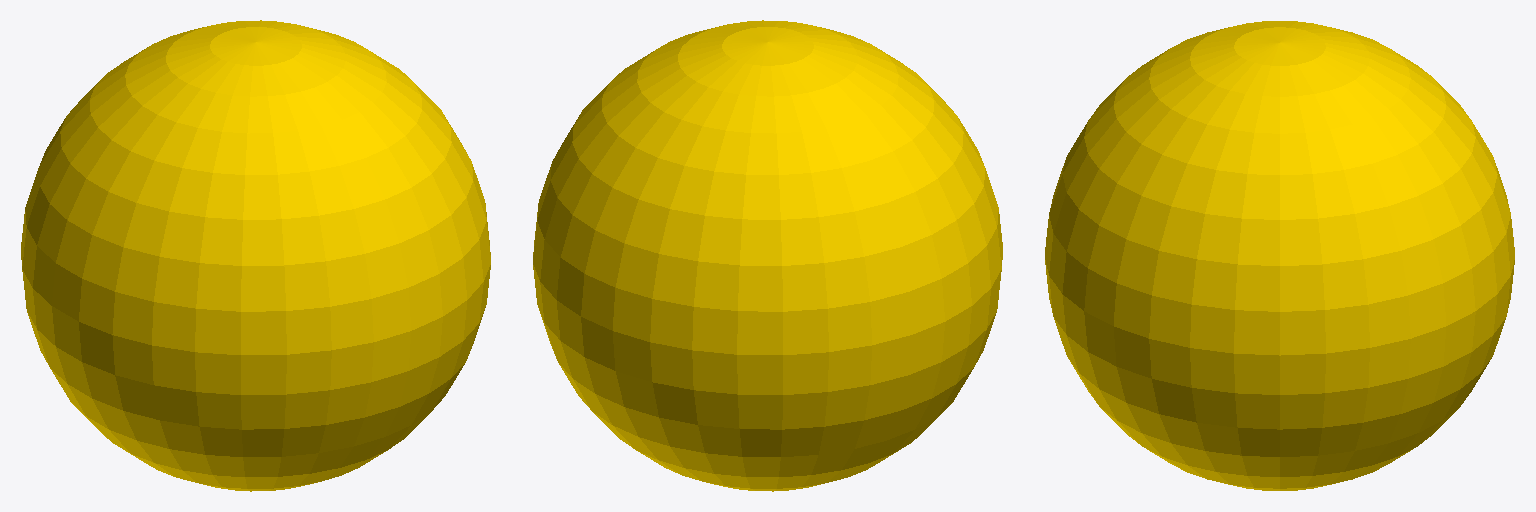
The robot description file, URDF, robot "soccer_ball":
<?xml version="1.0"?>
<!-- Soccer ball: pure-sphere rigid body, no mesh file required. -->
<robot name="soccer_ball">
  <link name="ball">
    <inertial>
      <mass value="0.05"/>
      <origin xyz="0 0 0"/>
      <inertia ixx="1.45e-5" iyy="1.45e-5" izz="1.45e-5" ixy="0" ixz="0" iyz="0"/>
    </inertial>
    <collision>
      <geometry>
        <sphere radius="0.11"/>
      </geometry>
    </collision>
    <visual>
      <geometry>
        <sphere radius="0.11"/>
      </geometry>
      <material name="ball">
        <color rgba="1.0 0.85 0.0 1.0"/>
      </material>
    </visual>
  </link>
</robot>

--- Render facts (derived) ---
3 views of the same robot in one strip: view 1: azimuth 30°, elevation 25°; view 2: azimuth 150°, elevation 25°; view 3: azimuth 270°, elevation 25° (orthographic).
Robot: soccer_ball — 1 links, 0 joints (none); root link ball; default pose: every joint at zero.
Links seen in each view (by area): view 1: ball; view 2: ball; view 3: ball.
Link boxes in pixels (x1,y1,x2,y2): ball: [21, 20, 490, 491]; ball: [533, 20, 1002, 491]; ball: [1045, 21, 1514, 490].
Bounding box of the posed robot: 0.22 × 0.22 × 0.22 m (x, y, z).
Geometry: primitives only (box / cylinder / sphere), no mesh files.
